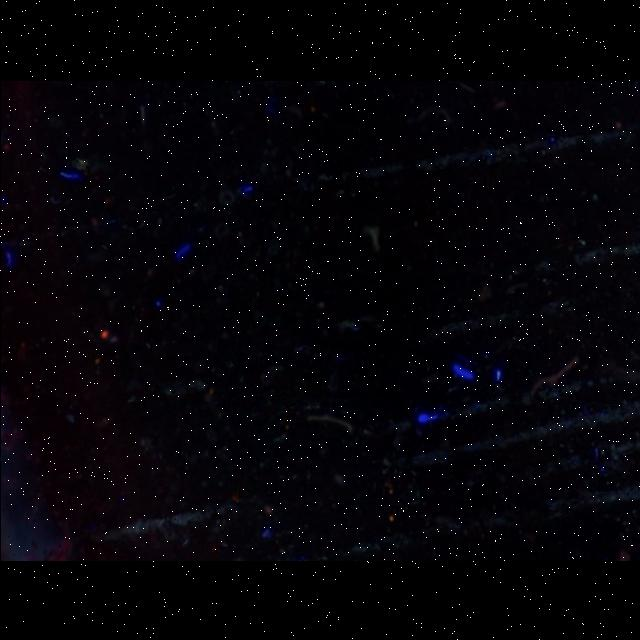Fibre: (362, 224, 384, 252)
